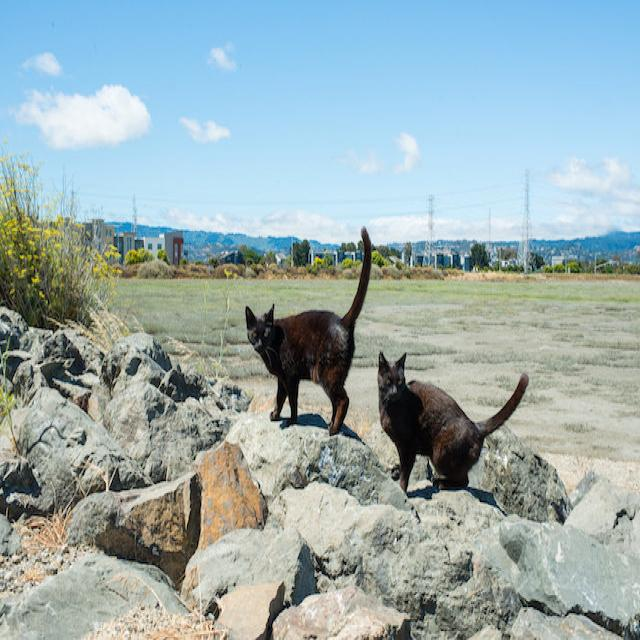cat: (245, 227, 371, 434), (378, 352, 529, 490)
